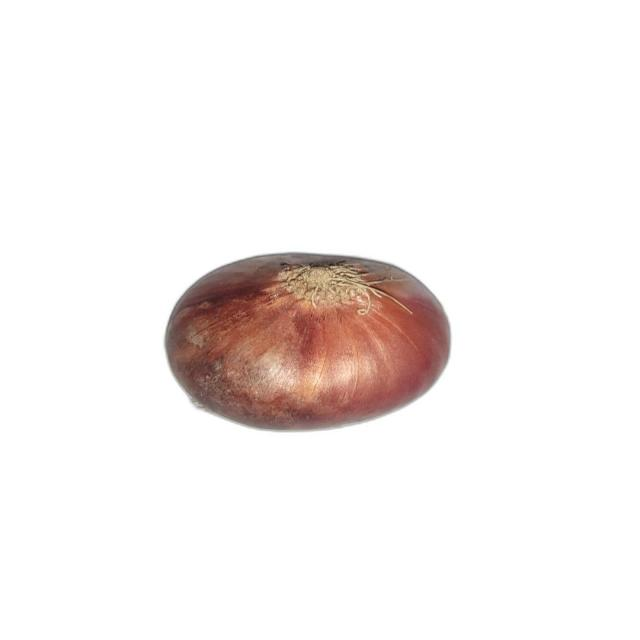onion: (164, 252, 453, 430)
